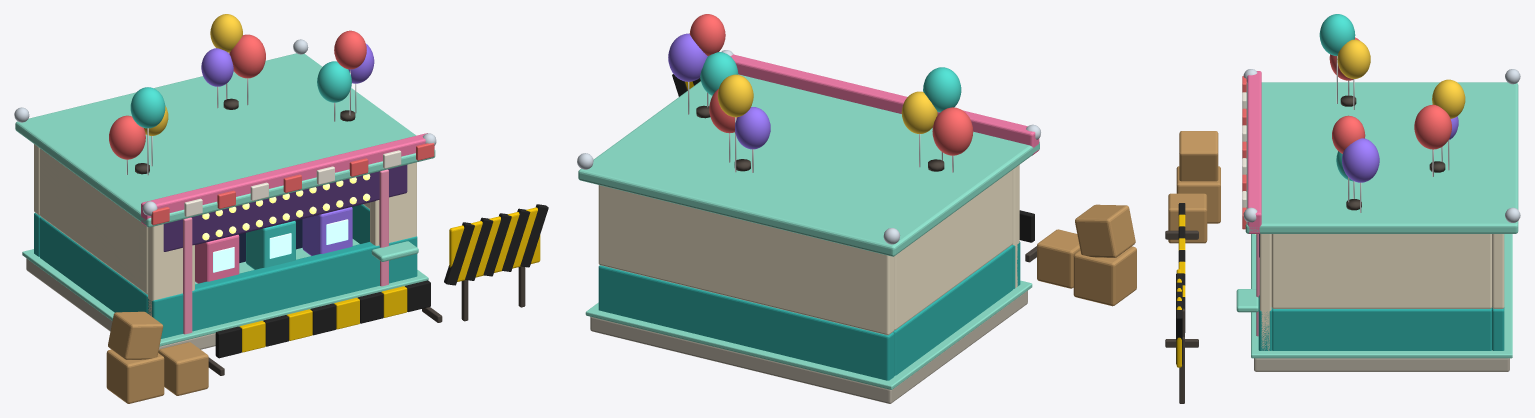
The model's file is farm-shop.glb.
The picture shows the model from 3 angles, left to right: view 1: azimuth 30°, elevation 25°; view 2: azimuth 150°, elevation 25°; view 3: azimuth 270°, elevation 25°; orthographic projection. The views are drawn at different scales.
Parts seen in each view (by area): view 1: SHOP roof slab, SHOP wainscot front, SHOP upper wall side -1, SHOP marquee board, SHOP wainscot side -1, SHOP roof fascia, SHOP foundation mint trim, SHOP crate stack base, SHOP sign board, SHOP front pier -1, SHOP crate stack top, SHOP crate beside (+34 smaller); view 2: SHOP roof slab, SHOP upper wall back, SHOP wainscot back, SHOP upper wall side -1, SHOP foundation slab, SHOP wainscot side -1, SHOP roof fascia, SHOP foundation mint trim, SHOP crate stack base, SHOP crate stack top, SHOP crate beside, SHOP balloon 0 0 (+9 smaller); view 3: SHOP roof slab, SHOP upper wall side 1, SHOP wainscot side 1, SHOP foundation mint trim, SHOP foundation slab, SHOP roof fascia, SHOP crate stack top, SHOP crate beside, SHOP balloon 1 1, SHOP front pier 1, SHOP balloon 2 1, SHOP crate stack base (+8 smaller).
Boxes of the visible parts, box(x1,y1,x2,y2) form: SHOP roof slab: box(15, 53, 435, 227); SHOP wainscot front: box(147, 236, 417, 338); SHOP upper wall side -1: box(40, 148, 147, 294); SHOP marquee board: box(163, 165, 407, 251); SHOP wainscot side -1: box(40, 217, 147, 312); SHOP roof fascia: box(141, 133, 434, 226); SHOP foundation mint trim: box(22, 239, 428, 346); SHOP crate stack base: box(106, 349, 164, 403); SHOP sign board: box(449, 207, 540, 281); SHOP front pier -1: box(148, 224, 194, 316); SHOP crate stack top: box(108, 311, 163, 359); SHOP crate beside: box(158, 342, 208, 395); SHOP roof slab: box(578, 74, 1039, 256); SHOP upper wall back: box(598, 185, 894, 335); SHOP wainscot back: box(598, 265, 894, 380); SHOP upper wall side -1: box(894, 170, 1012, 330); SHOP foundation slab: box(590, 290, 1027, 403); SHOP wainscot side -1: box(893, 245, 1012, 375); SHOP roof fascia: box(730, 54, 1039, 155); SHOP foundation mint trim: box(585, 280, 1032, 389); SHOP crate stack base: box(1073, 246, 1136, 306); SHOP crate stack top: box(1075, 204, 1135, 257); SHOP crate beside: box(1037, 229, 1080, 288); SHOP balloon 0 0: box(932, 107, 973, 155); SHOP roof slab: box(1245, 82, 1518, 233); SHOP upper wall side 1: box(1271, 234, 1491, 308); SHOP wainscot side 1: box(1272, 308, 1491, 350); SHOP foundation mint trim: box(1251, 234, 1512, 358); SHOP foundation slab: box(1254, 358, 1509, 371); SHOP roof fascia: box(1247, 71, 1261, 233); SHOP crate stack top: box(1179, 131, 1218, 181); SHOP crate beside: box(1168, 193, 1207, 243); SHOP balloon 1 1: box(1414, 104, 1451, 149); SHOP front pier 1: box(1259, 234, 1271, 350); SHOP balloon 2 1: box(1342, 138, 1379, 182); SHOP crate stack base: box(1176, 166, 1220, 223).
Bounding box in the file's own units: 8.92 × 4.79 × 6.38.
